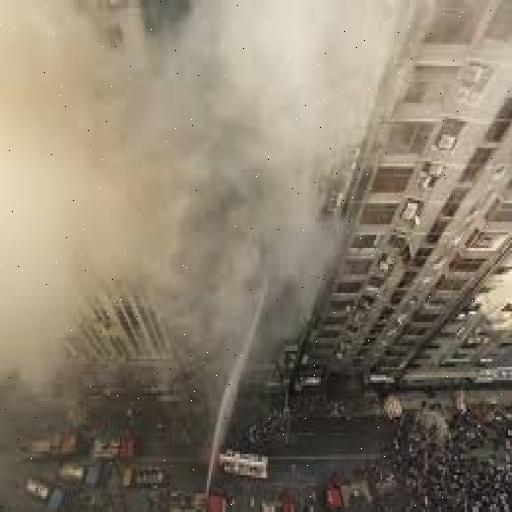smoke: (2, 3, 329, 343)
